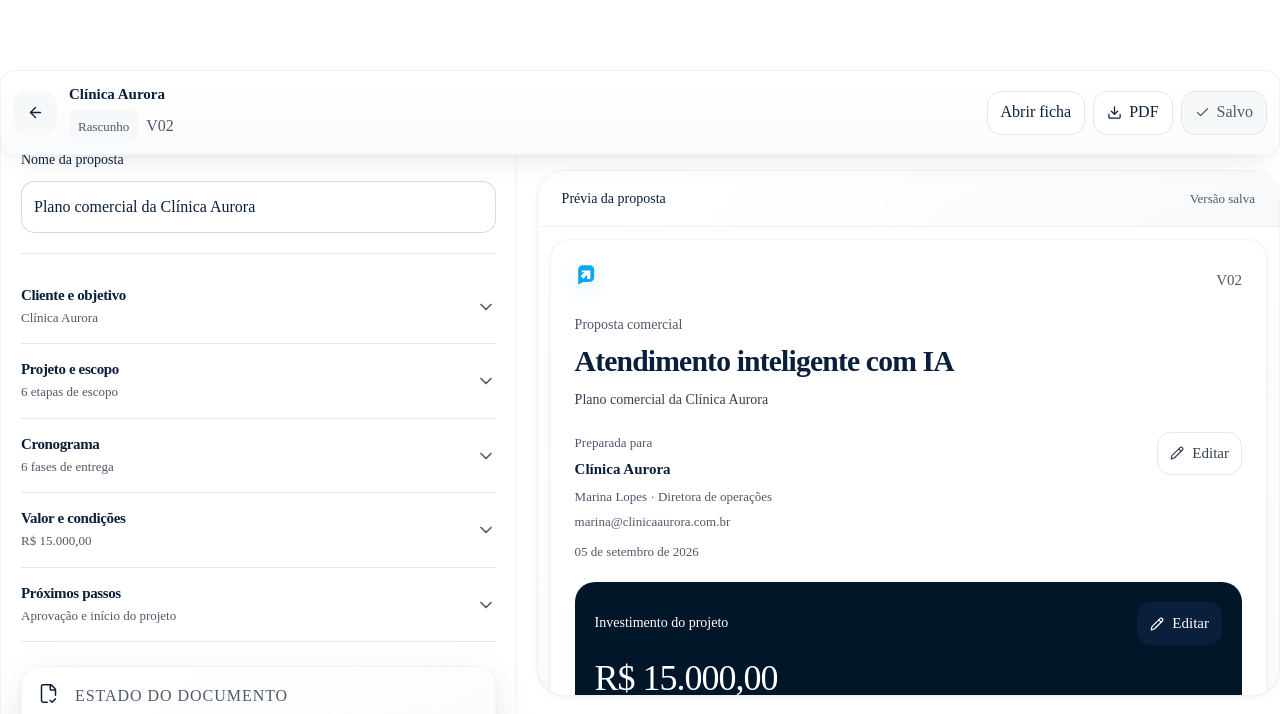
Test: EditorProposta › salva a edição local somente contra a versão comparada e pede nova revisão se mudar outra vez
Replace the text in the text box labelled "Nome da proposta" with "Minha edição escolhida" at (258, 207), box [21, 181, 496, 233]
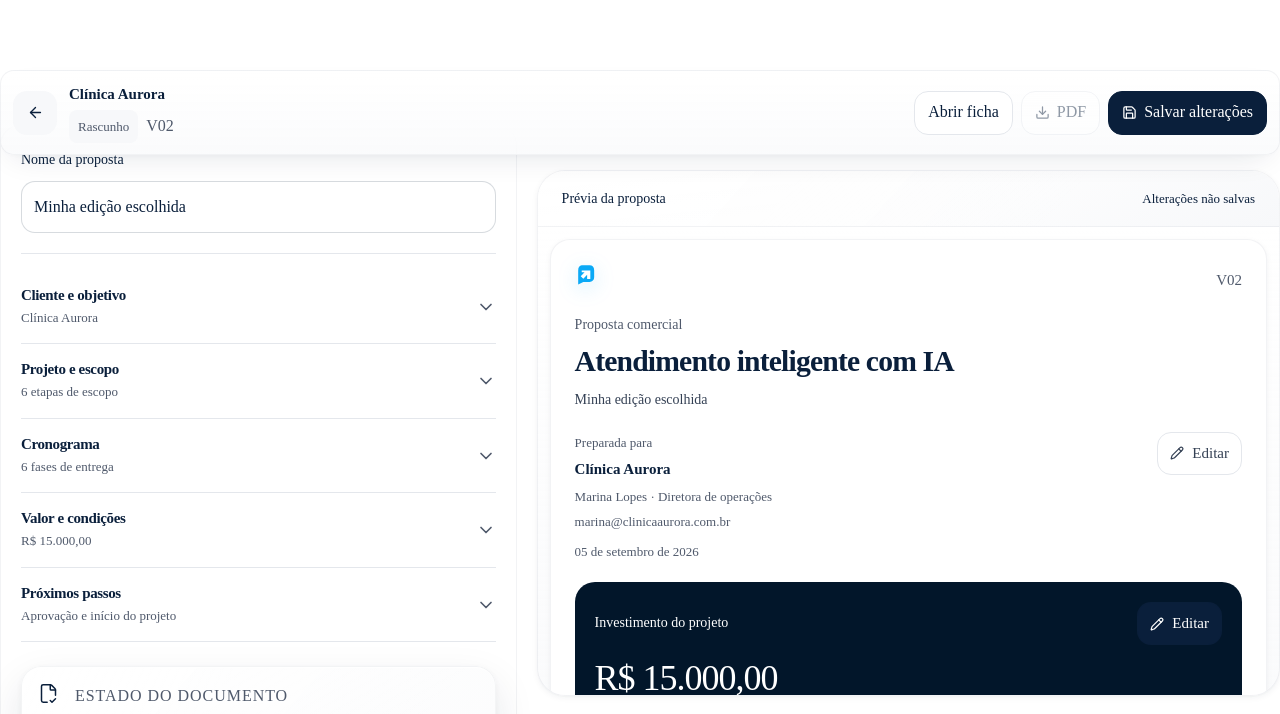
Click the button "Salvar alterações".
click(1188, 113)  # box [1108, 91, 1267, 135]
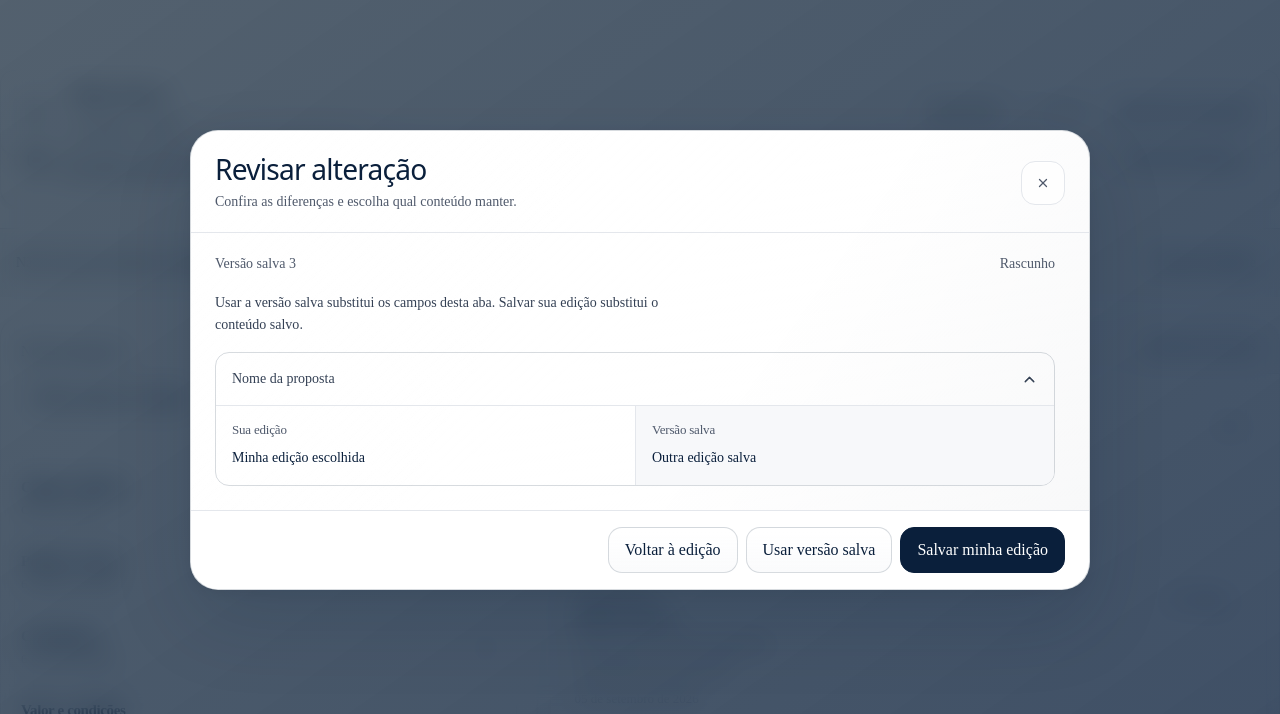
Click the button "Salvar minha edição".
click(983, 550)  # box [900, 527, 1065, 574]
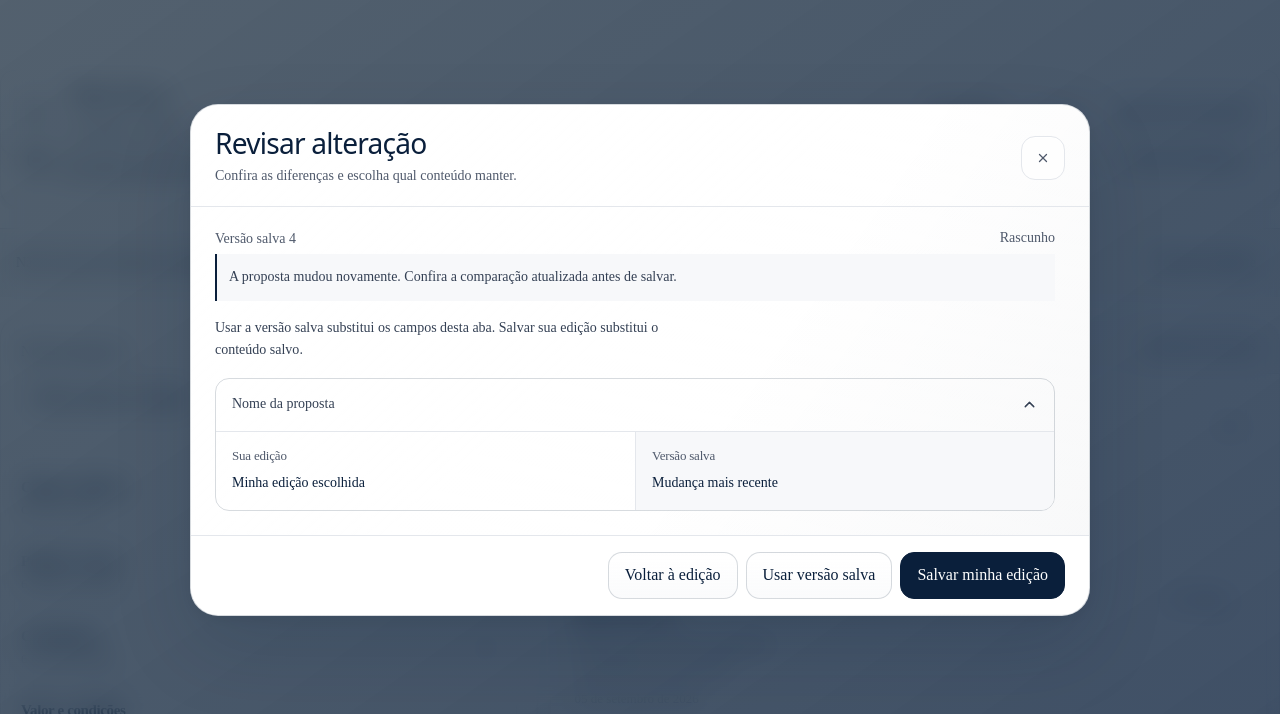
Now the message shows "mudou novamente", box [229, 269, 677, 284]
Click the button "Salvar minha edição".
click(983, 576)  # box [900, 552, 1065, 599]
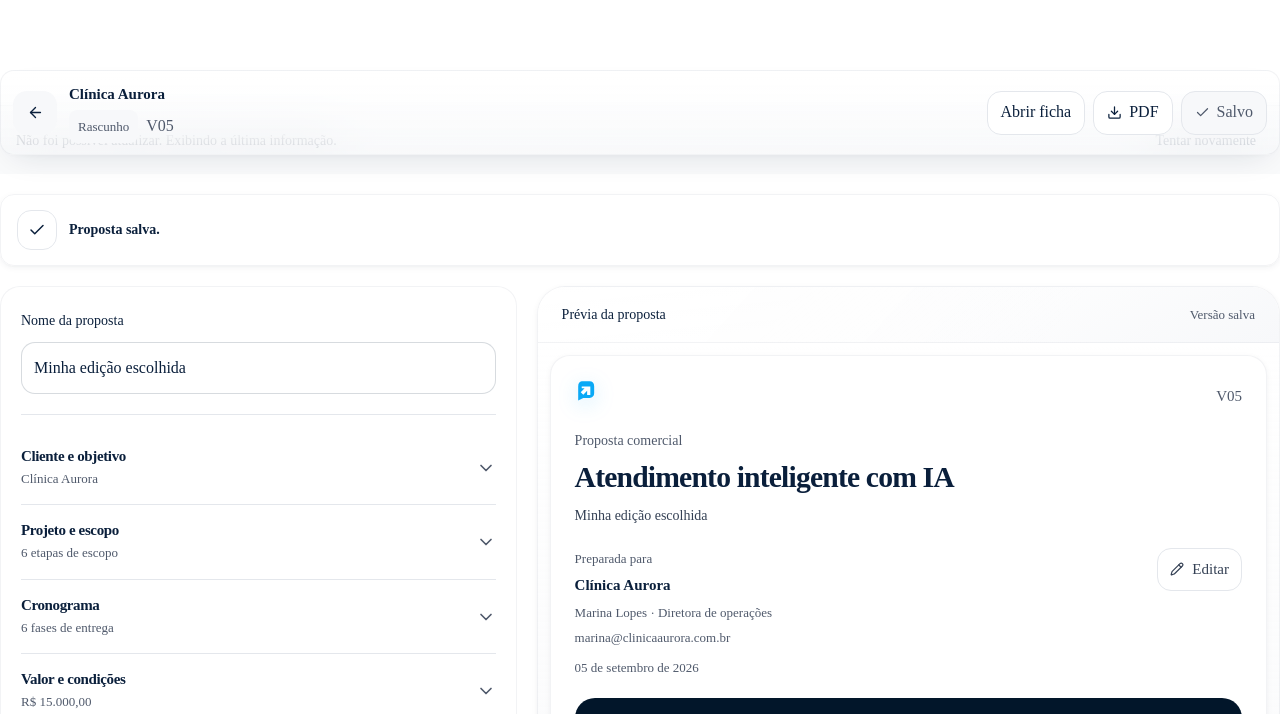
Now the dialog is gone
